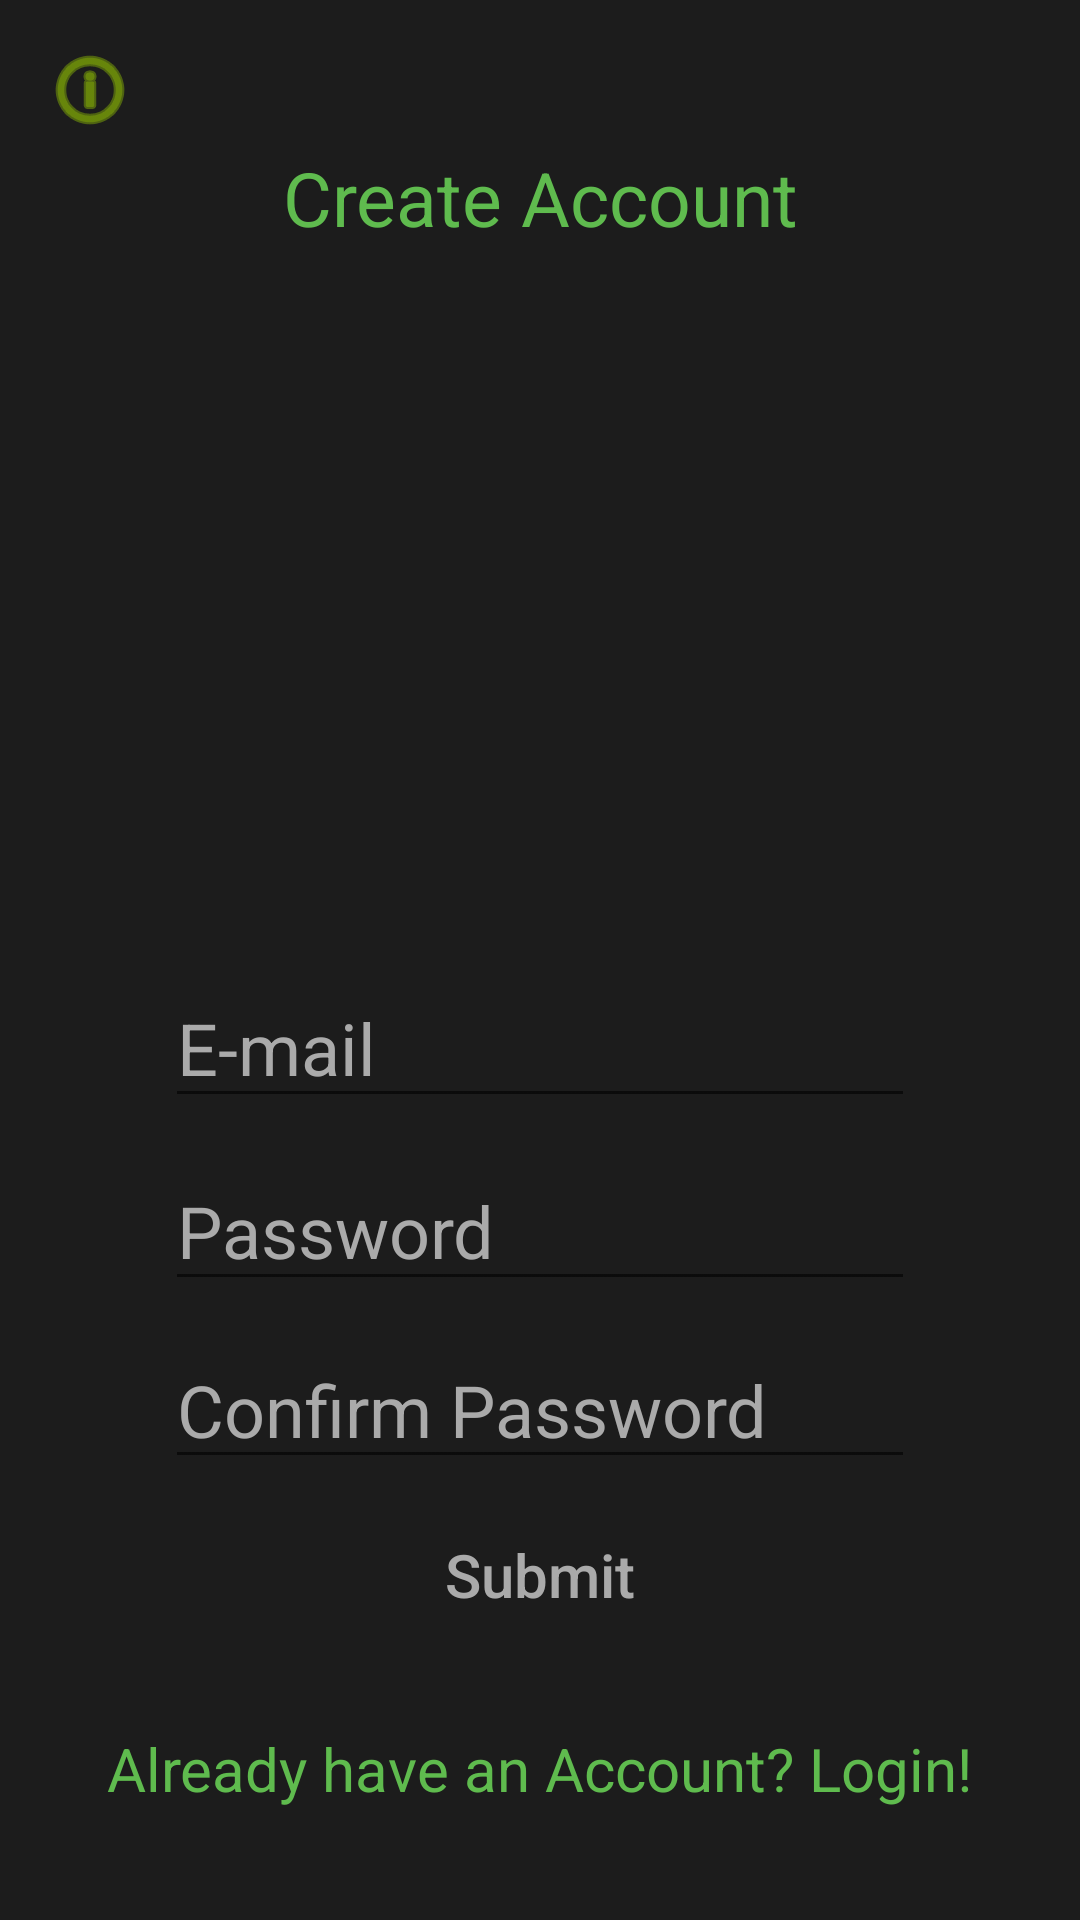

Icons on this 1080 x 1920 Android screen, each with the point to tap as (x=x, y=y):
info details: (x=90, y=90)
